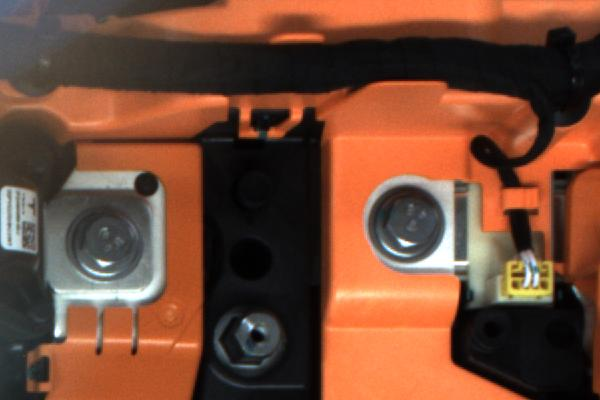nut_b: (62, 197, 150, 283), (363, 182, 448, 267)
